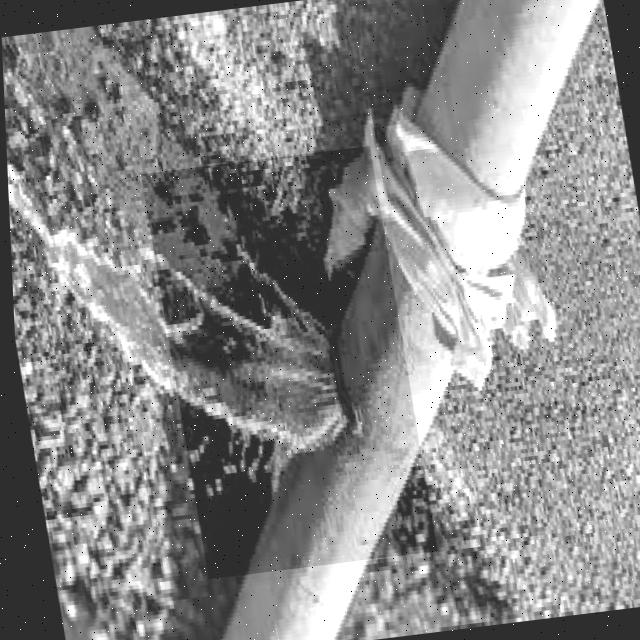corrosion: (150, 163, 441, 582)
